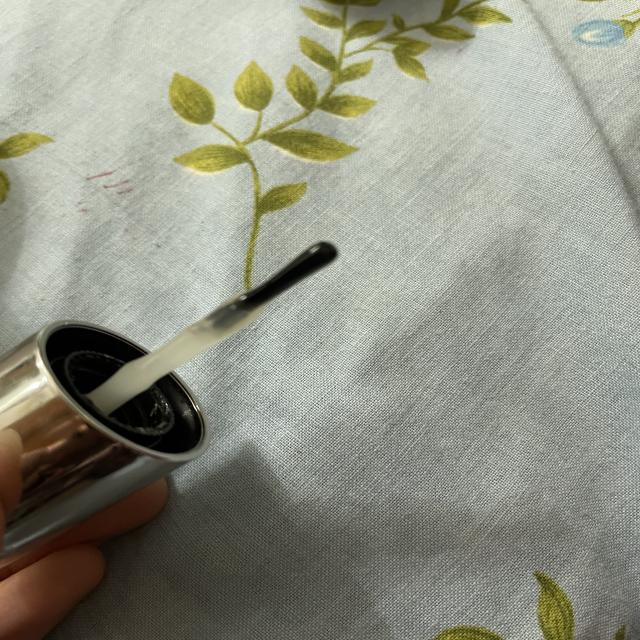nail polish: (0, 191, 390, 591)
